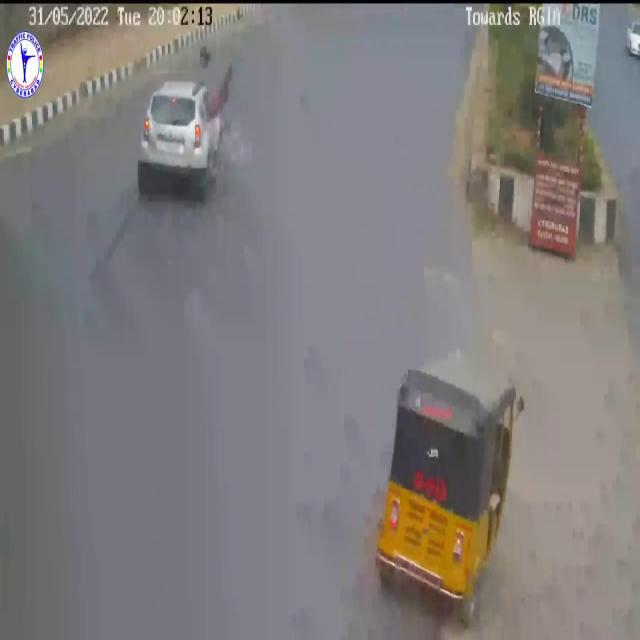accident: (131, 44, 240, 216)
